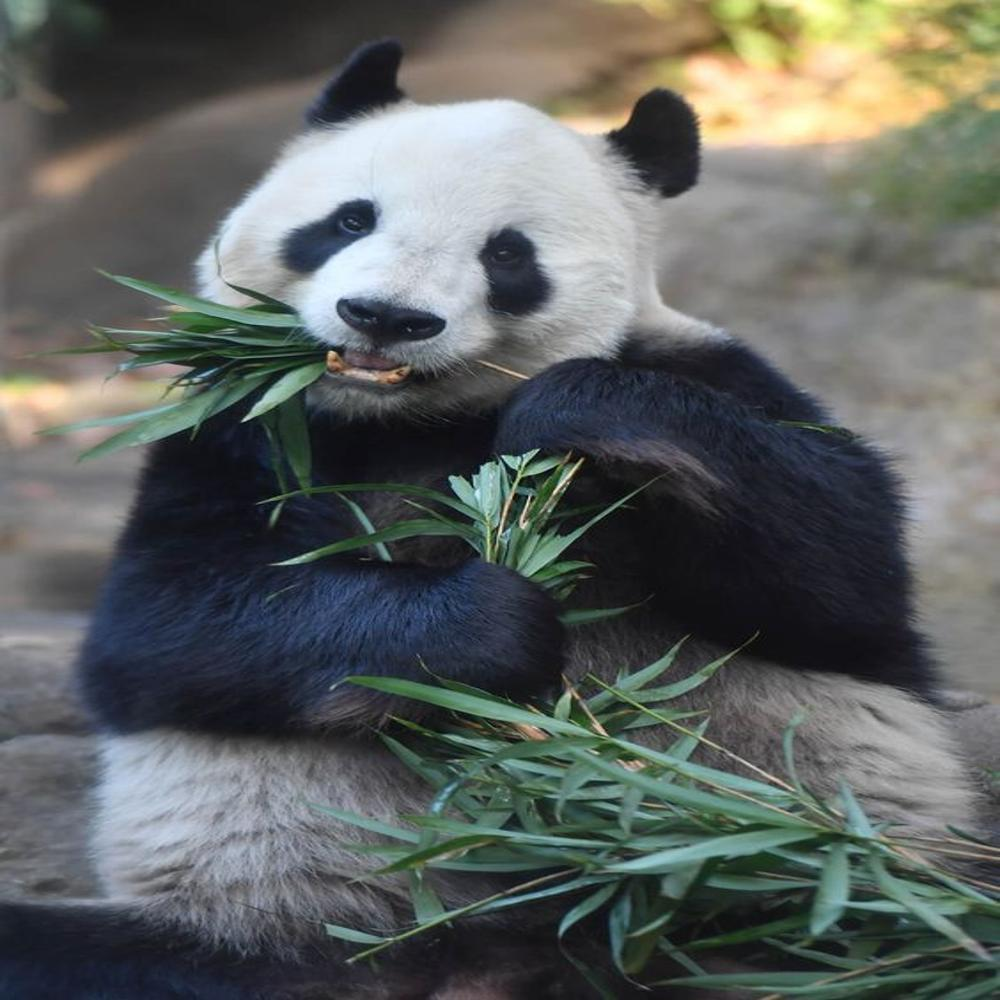panda: (104, 38, 933, 873)
